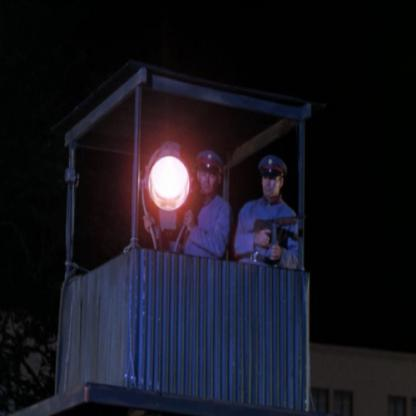Gun: (250, 212, 304, 265)
